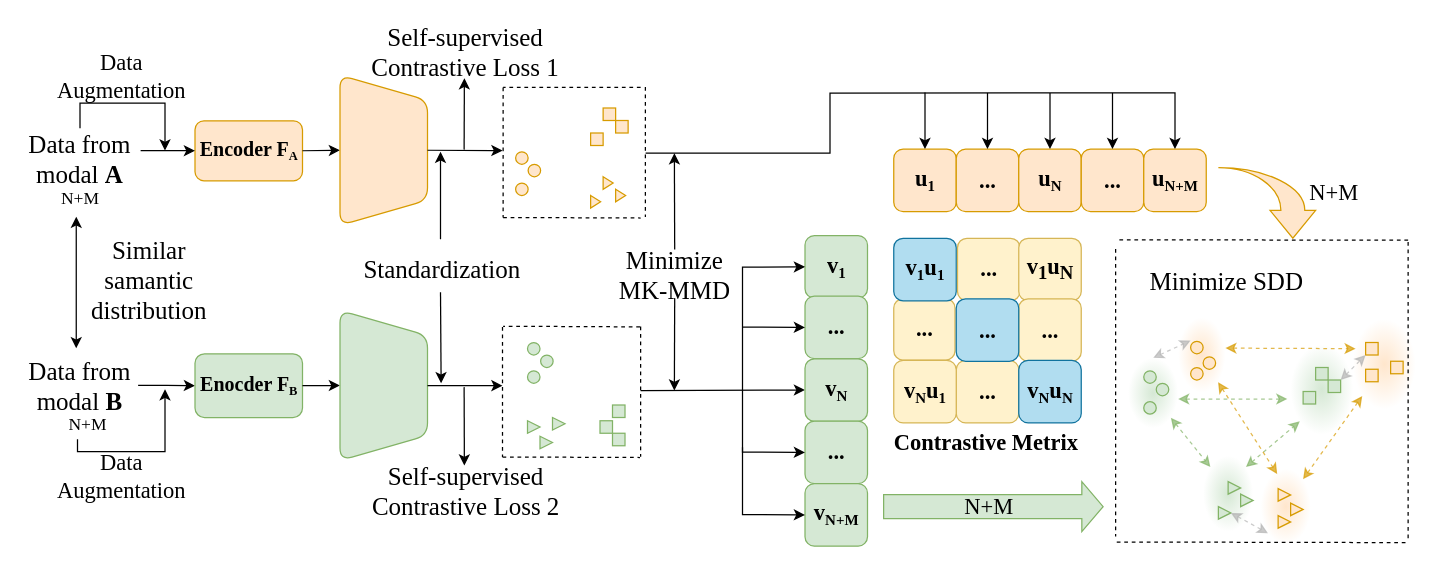
This 1436x569 diagram has some shape labels left out. The shapes that lost their labels are listed below. From the top down, each one's box as (x1, y1, x2, y2) in pixels, then its label:
(339, 74, 428, 225): Projection Head H A
(339, 309, 428, 460): Projection Head H B
